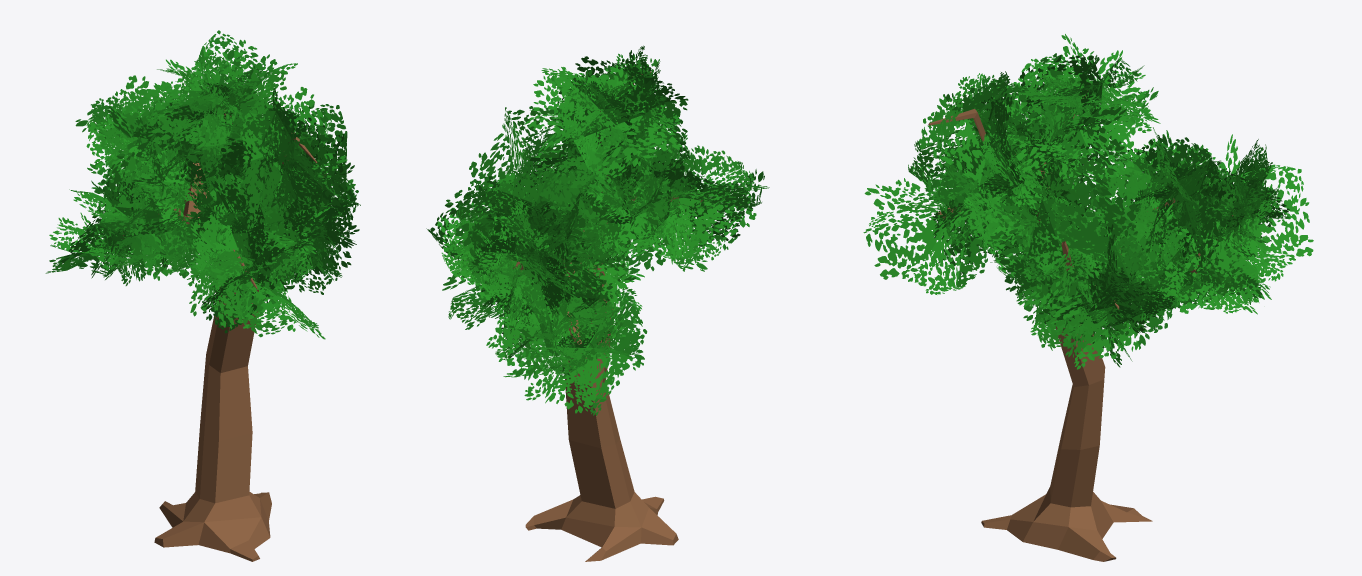
Rendered from mesh_tree1.fbx.
The picture shows the model from 3 angles, left to right: view 1: azimuth 30°, elevation 25°; view 2: azimuth 150°, elevation 25°; view 3: azimuth 270°, elevation 25°; orthographic projection. The views are drawn at different scales.
Parts seen in each view (by area): view 1: mesh_Tree1; view 2: mesh_Tree1; view 3: mesh_Tree1.
Boxes of the visible parts, bbox=[...] form: mesh_Tree1: bbox=[45, 30, 360, 561]; mesh_Tree1: bbox=[426, 45, 769, 561]; mesh_Tree1: bbox=[863, 34, 1313, 561].
Bounding box in the file's own units: 8.45 × 13.13 × 12.31.
